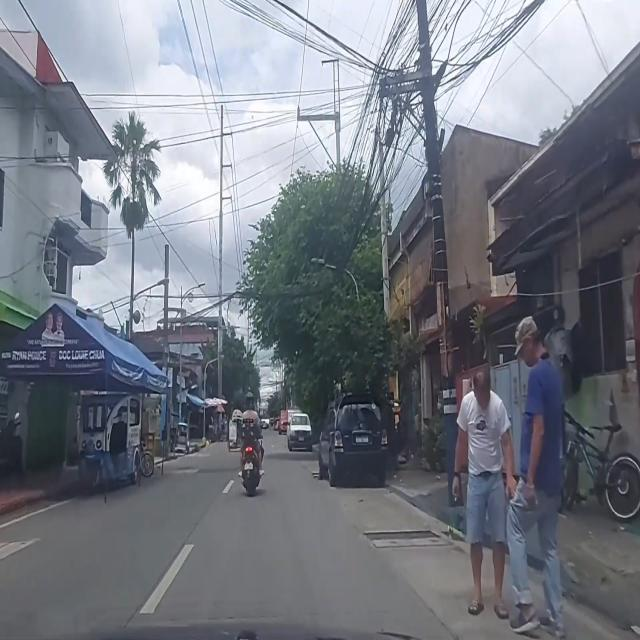bike: (562, 406, 640, 524)
car: (318, 391, 388, 487), (287, 413, 313, 452)
motorcycle: (238, 392, 265, 496), (140, 440, 154, 477)
tricycle: (77, 394, 142, 496), (170, 411, 190, 454), (227, 410, 245, 452)
